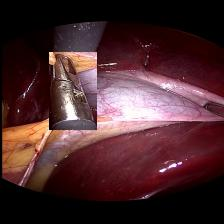Grasper: (48, 52, 95, 130)
